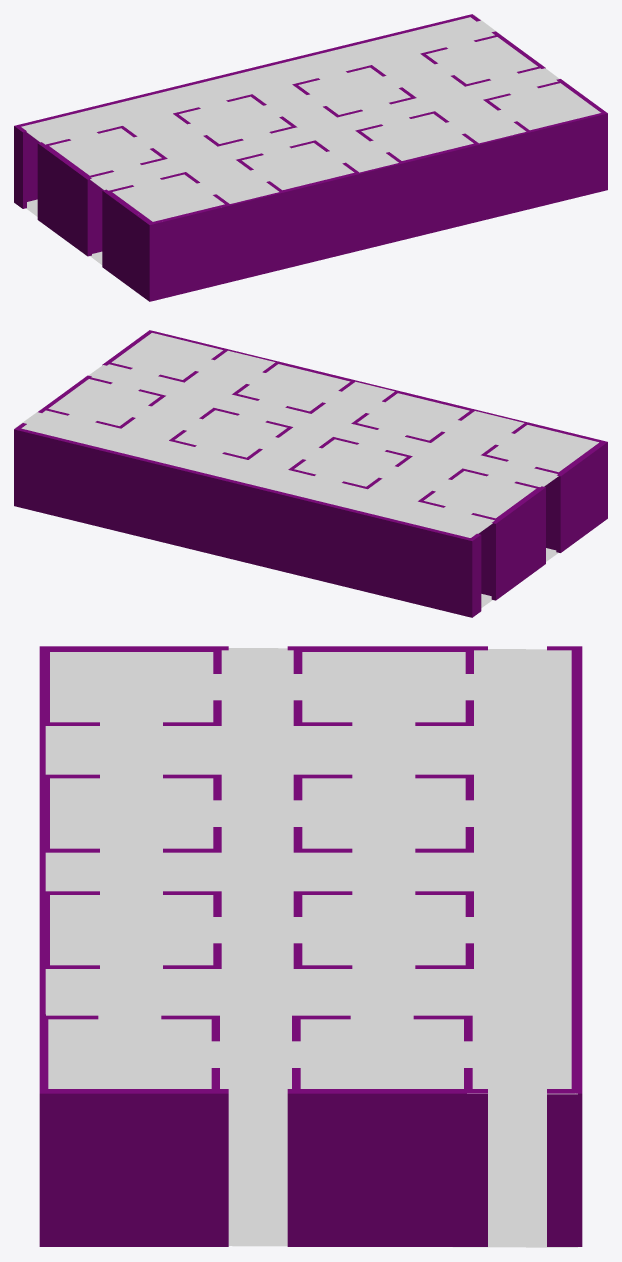
File: BasicFloorplan.fbx
The picture shows the model from 3 angles, top to bottom: view 1: azimuth 30°, elevation 25°; view 2: azimuth 150°, elevation 25°; view 3: azimuth 270°, elevation 25°; orthographic projection. The views are drawn at different scales.
Parts seen in each view (by area): view 1: Ceiling, Walls; view 2: Ceiling, Walls; view 3: Ceiling, Walls, Floor.
Part boxes in pixels (x1,y1,x2,y2): Ceiling: (21, 14, 600, 221); Walls: (14, 14, 607, 301); Ceiling: (14, 333, 598, 537); Walls: (14, 330, 607, 617); Ceiling: (45, 648, 577, 1094); Walls: (39, 646, 582, 1246); Floor: (228, 1092, 577, 1247).
Size of the model in its own units: 4.7 by 0.75 by 2.41.
